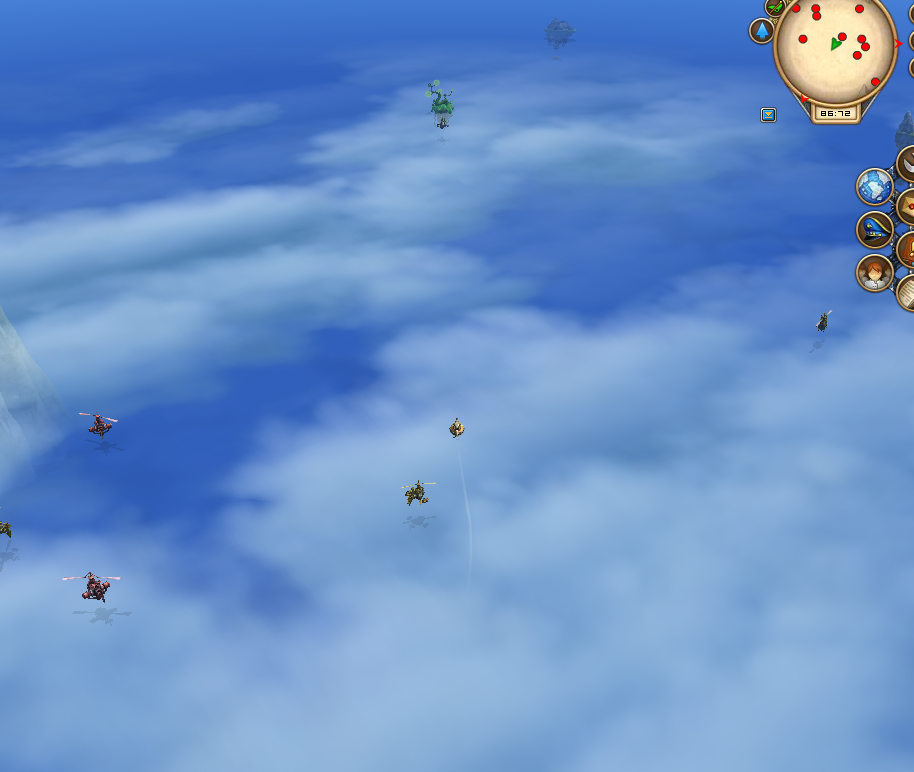dandelion-full: (418, 73, 460, 126)
